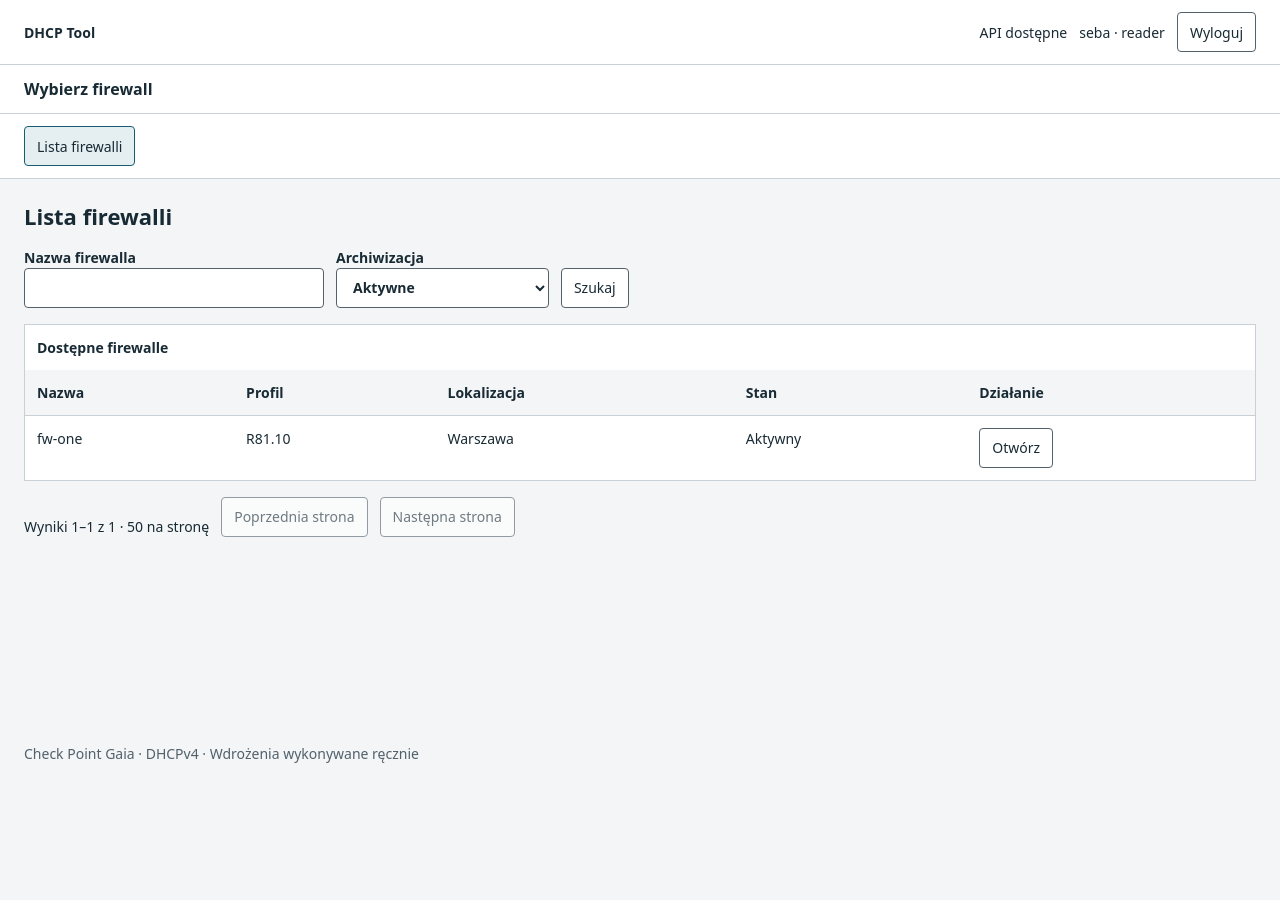
keeps the selected comparison version visible across history pages
This screenshot has width=1280, height=900.
Click the button with aria-label "Otwórz fw-one" at (1016, 448), box 979,428 -> 1053,468
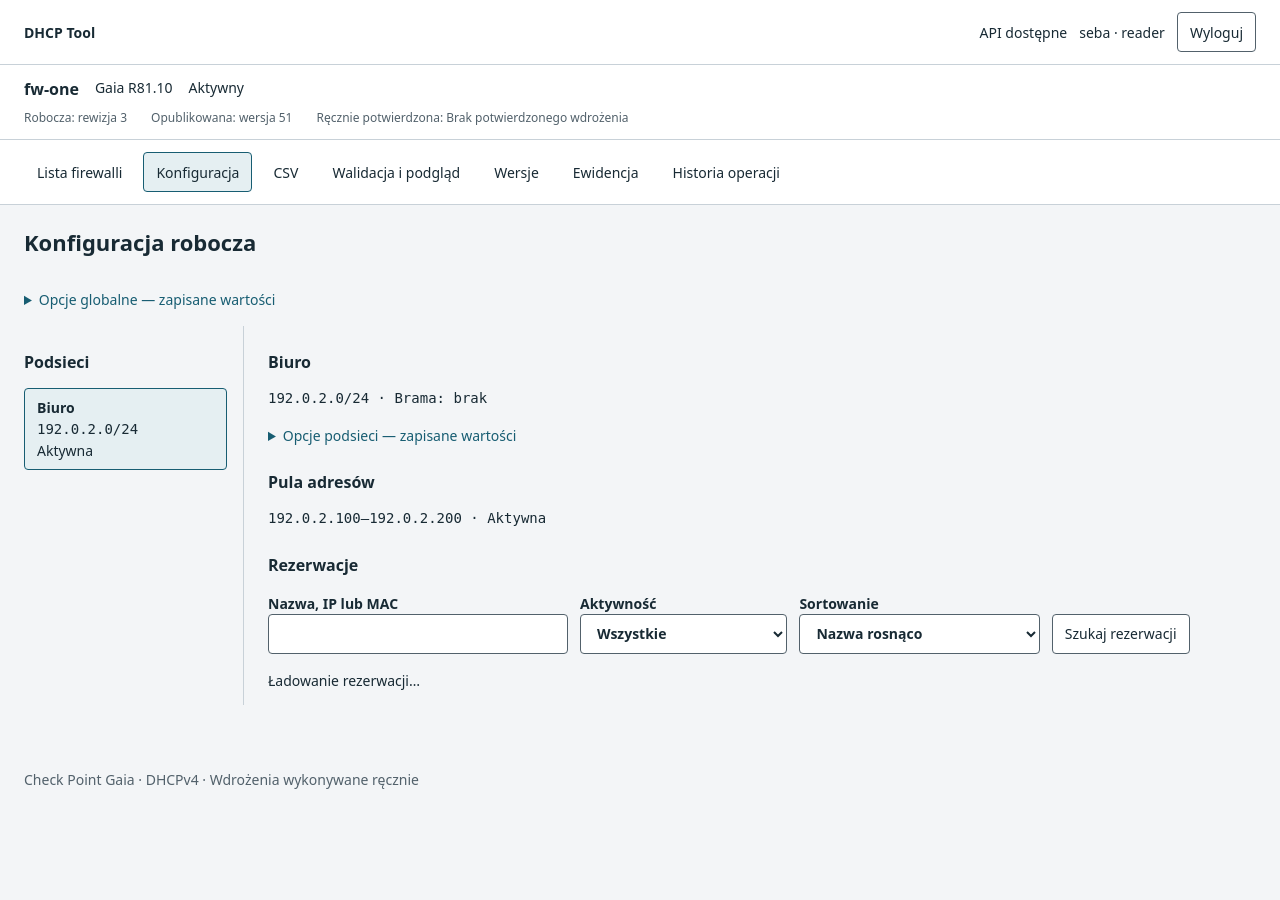
Result: the heading "Konfiguracja robocza" is shown at 24,227 -> 256,257
Click the button "Wersje" at (516, 172), box 481,152 -> 552,192
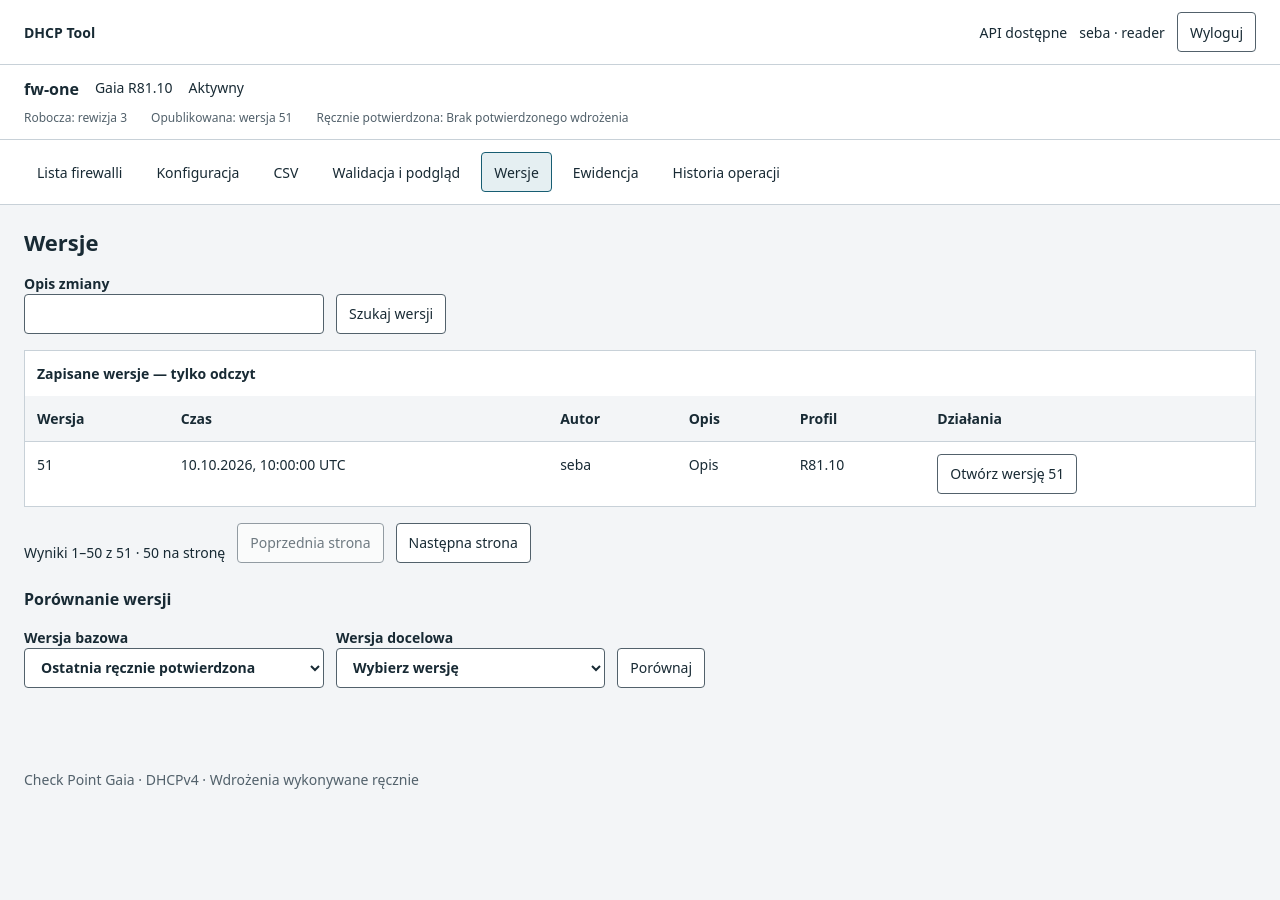
Result: the button "Otwórz wersję 51" is shown at 937,454 -> 1077,494
Select "Wersja 51" in the dropdown labelled "Wersja docelowa" at (471, 668), box 336,648 -> 605,688
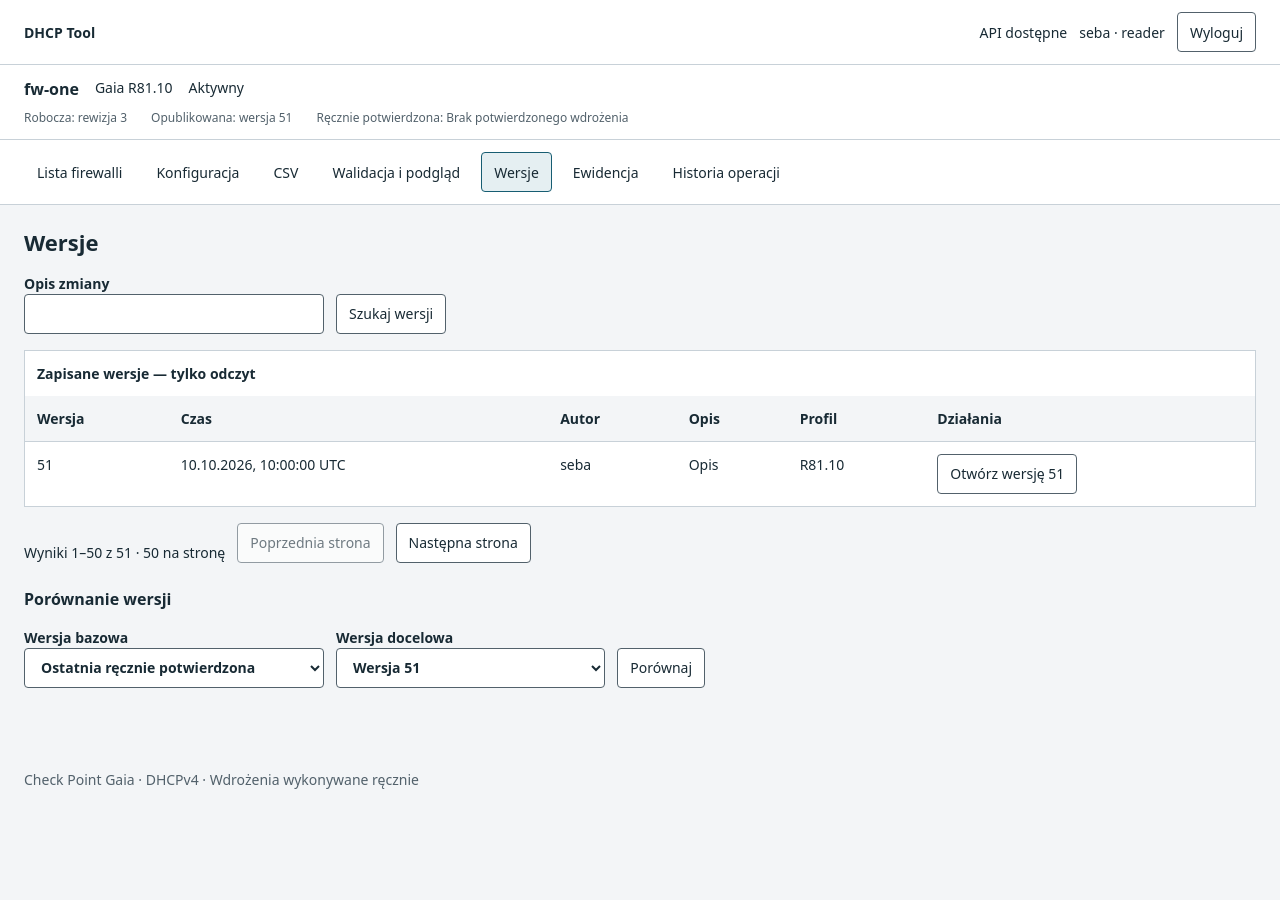
Click the button "Następna strona" at (463, 542), box 396,522 -> 531,562
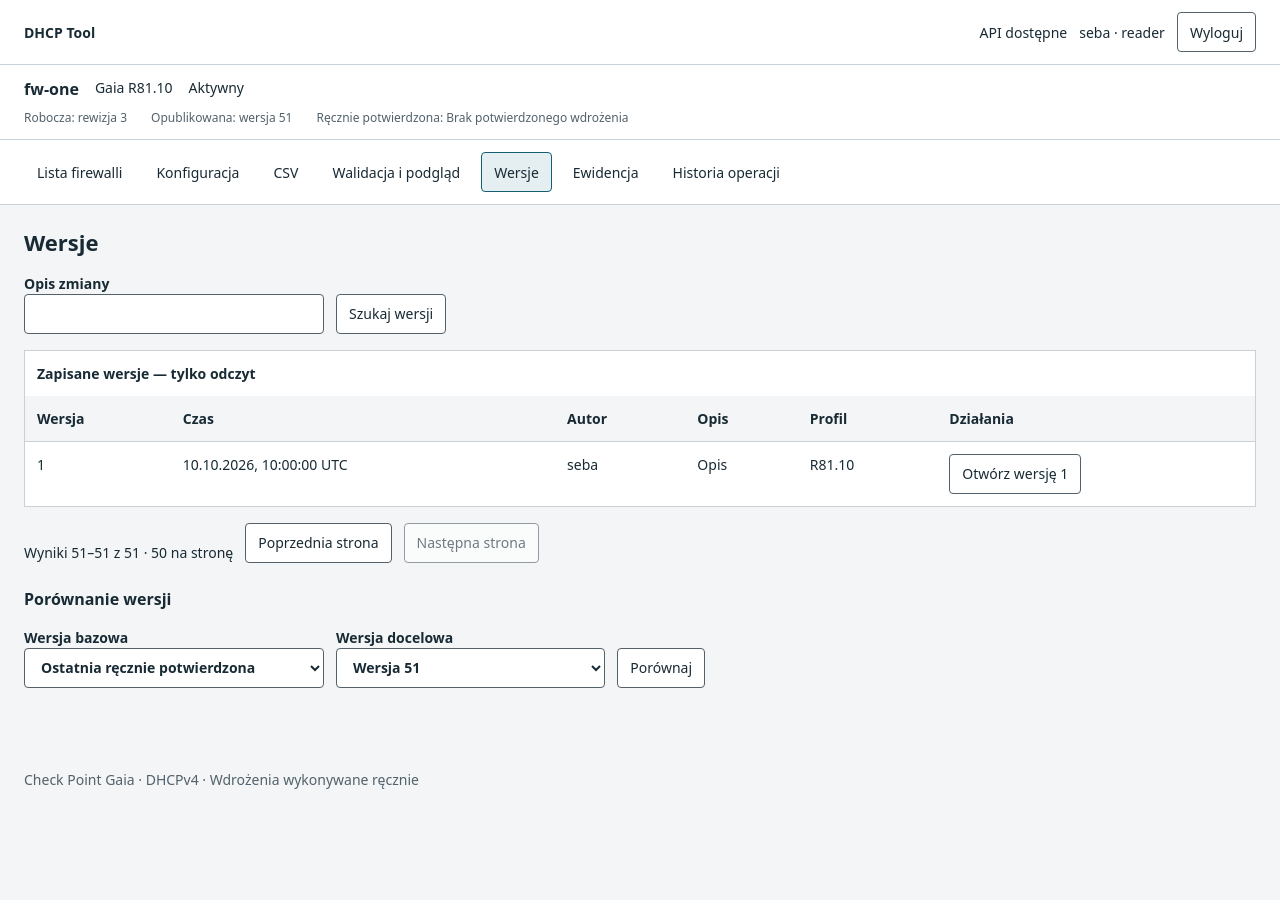
Result: the button "Otwórz wersję 1" is shown at 949,454 -> 1081,494
